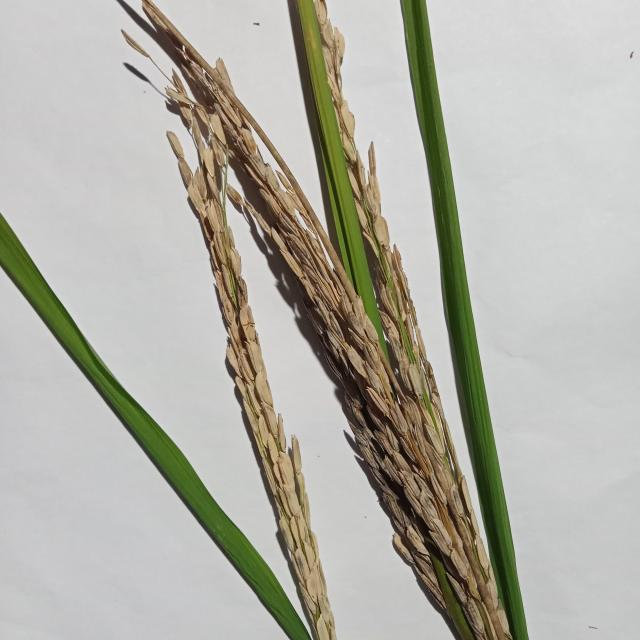Neck_Blast: (112, 0, 526, 640), (171, 129, 339, 640)
